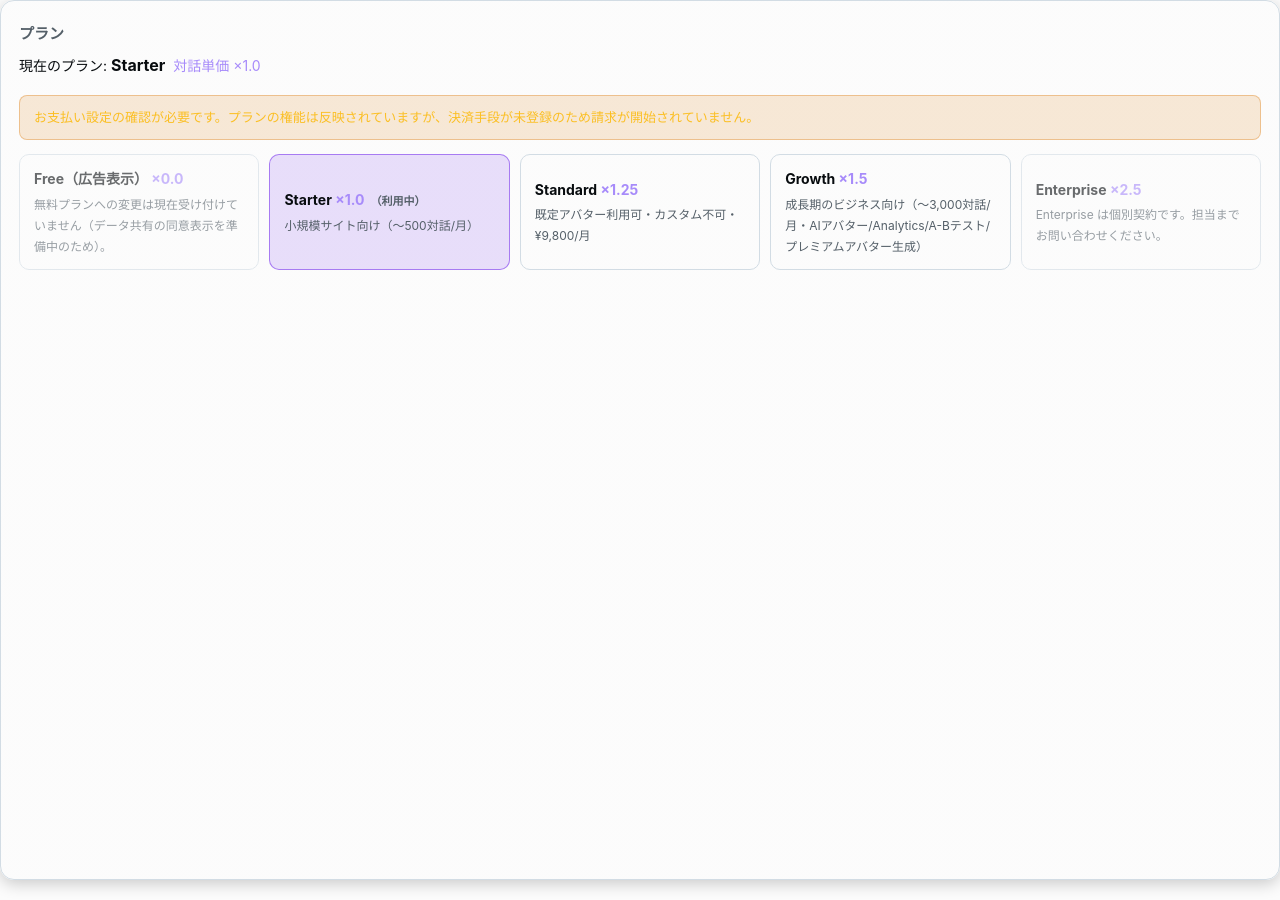
Test: PlanSection › starter → Standard では既定アバターだけが増え、カスタマイズは増えない
Click the button "Standard ×1.25 既定アバター利用可・カスタム不可・¥9,800/月" at (640, 212), box [520, 154, 760, 270]
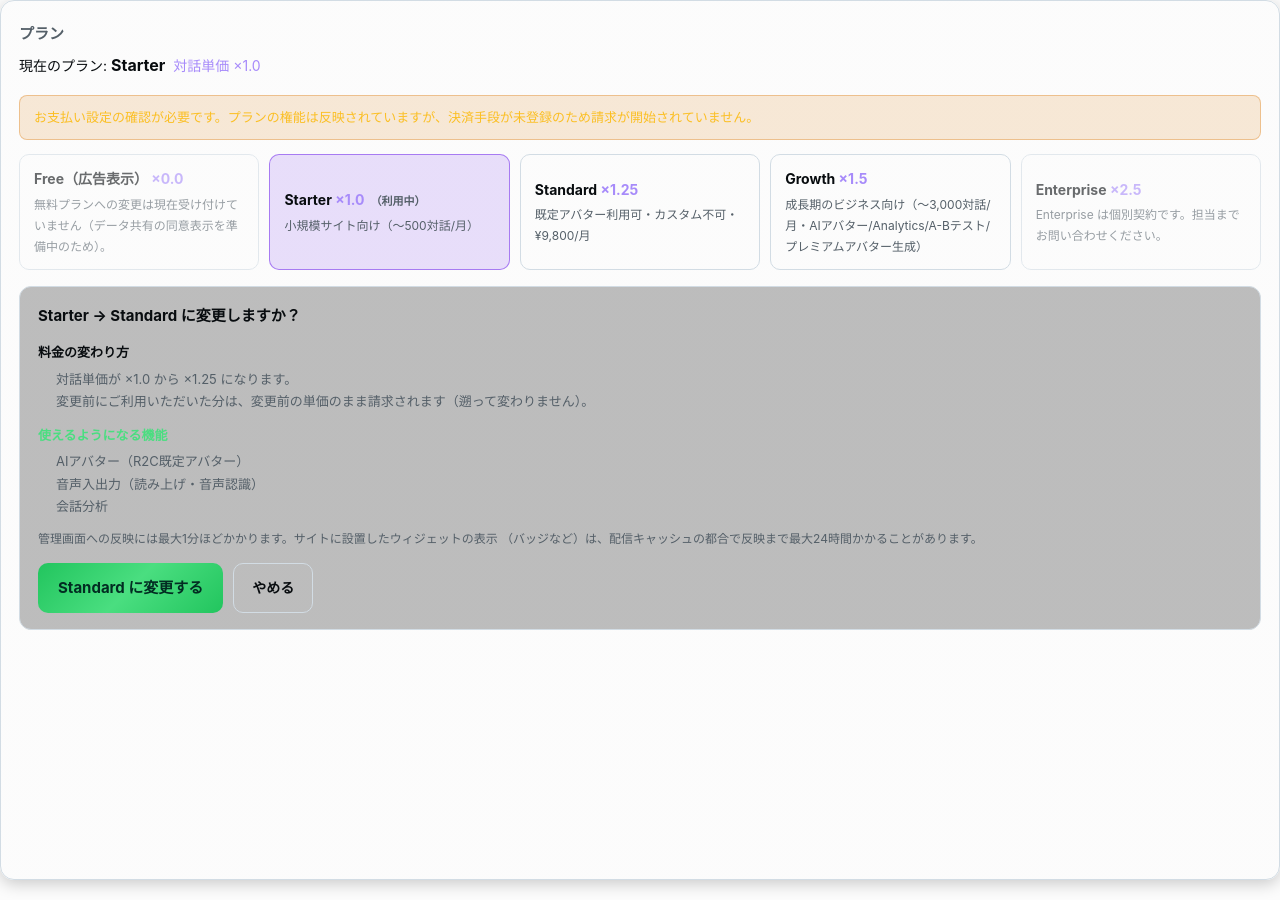
Result: the text "使えるようになる機能" is shown at [38, 427, 168, 443]
Result: the list item "AIアバター（R2C既定アバター）" is shown at [56, 453, 249, 469]
